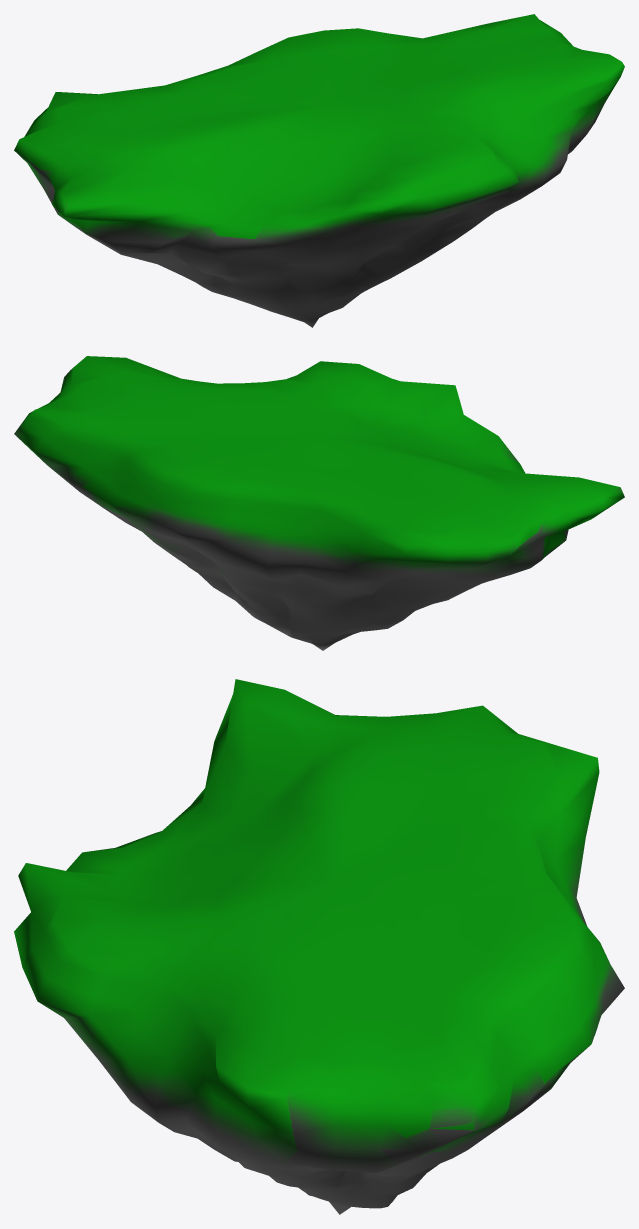
The model's file is ostrov2.fbx.
3 renders of one model, top to bottom at view 1: azimuth 30°, elevation 25°; view 2: azimuth 150°, elevation 25°; view 3: azimuth 270°, elevation 25°, orthographic. The views are drawn at different scales.
Visible parts, largest first — view 1: Kužel; view 2: Kužel; view 3: Kužel.
Part boxes in pixels (bbox=[...]): Kužel: bbox=[14, 14, 624, 327]; Kužel: bbox=[14, 356, 624, 650]; Kužel: bbox=[14, 679, 624, 1214].
Size of the model in its own units: 282 by 107 by 171.
